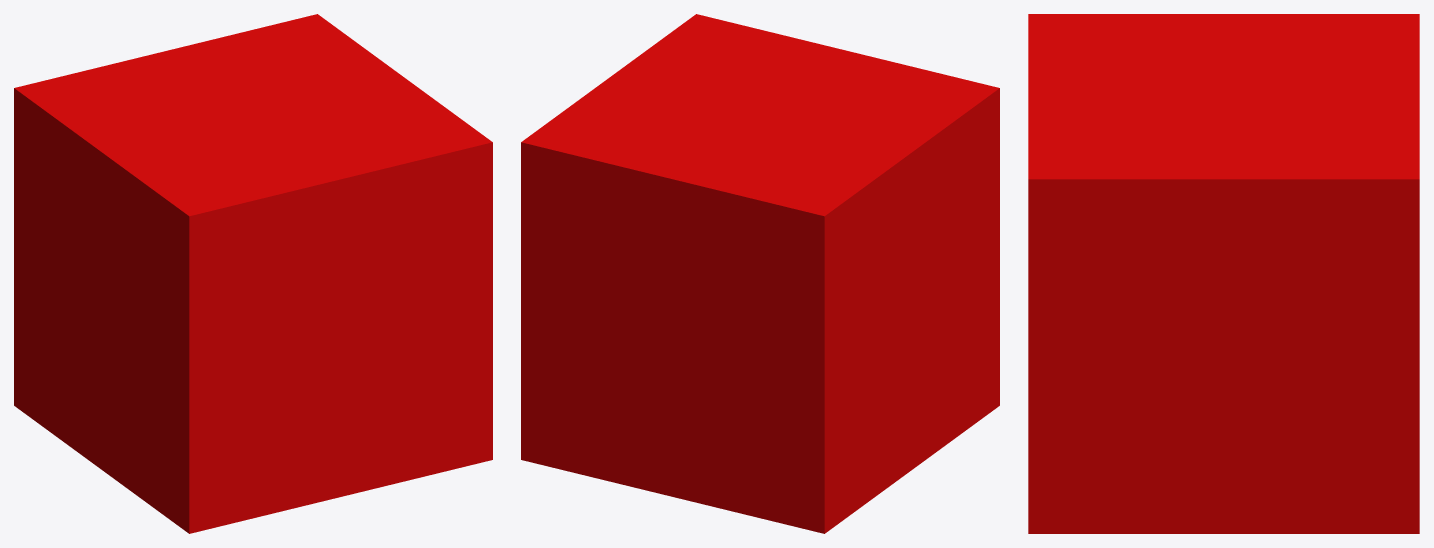
Rendered from DefaultCube.fbx.
The picture shows the model from 3 angles, left to right: view 1: azimuth 30°, elevation 25°; view 2: azimuth 150°, elevation 25°; view 3: azimuth 270°, elevation 25°; orthographic projection. The views are drawn at different scales.
Parts seen in each view (by area): view 1: ThrusterBL, Body, ThrusterBR, ThrusterFL, FlapLeft, FlapBack, ThrusterFR, FlapRight; view 2: ThrusterFL, Body, ThrusterFR, ThrusterBL, FlapLeft, Head, ThrusterBR, FlapRight; view 3: ThrusterBR, ThrusterFR, FlapRight, Body, ThrusterBL, ThrusterFL, FlapLeft.
Boxes of the visible parts, box(x1,y1,x2,y2) form: ThrusterBL: box(131, 149, 290, 533); Body: box(115, 38, 391, 350); ThrusterBR: box(333, 99, 492, 484); ThrusterFL: box(14, 63, 173, 448); FlapLeft: box(72, 120, 175, 490); FlapBack: box(290, 326, 391, 508); ThrusterFR: box(217, 14, 375, 81); FlapRight: box(331, 57, 433, 110); ThrusterFL: box(723, 149, 882, 533); Body: box(622, 38, 898, 350); ThrusterFR: box(521, 99, 680, 484); ThrusterBL: box(840, 63, 999, 448); FlapLeft: box(838, 120, 941, 490); Head: box(622, 326, 723, 508); ThrusterBR: box(638, 14, 796, 81); FlapRight: box(580, 57, 682, 110); ThrusterBR: box(1028, 124, 1158, 533); ThrusterFR: box(1289, 124, 1419, 533); FlapRight: box(1158, 154, 1289, 533); Body: box(1028, 38, 1419, 154); ThrusterBL: box(1028, 14, 1158, 68); ThrusterFL: box(1289, 14, 1419, 68); FlapLeft: box(1158, 14, 1289, 38).
Size of the model in its own units: 200 by 200 by 200.
